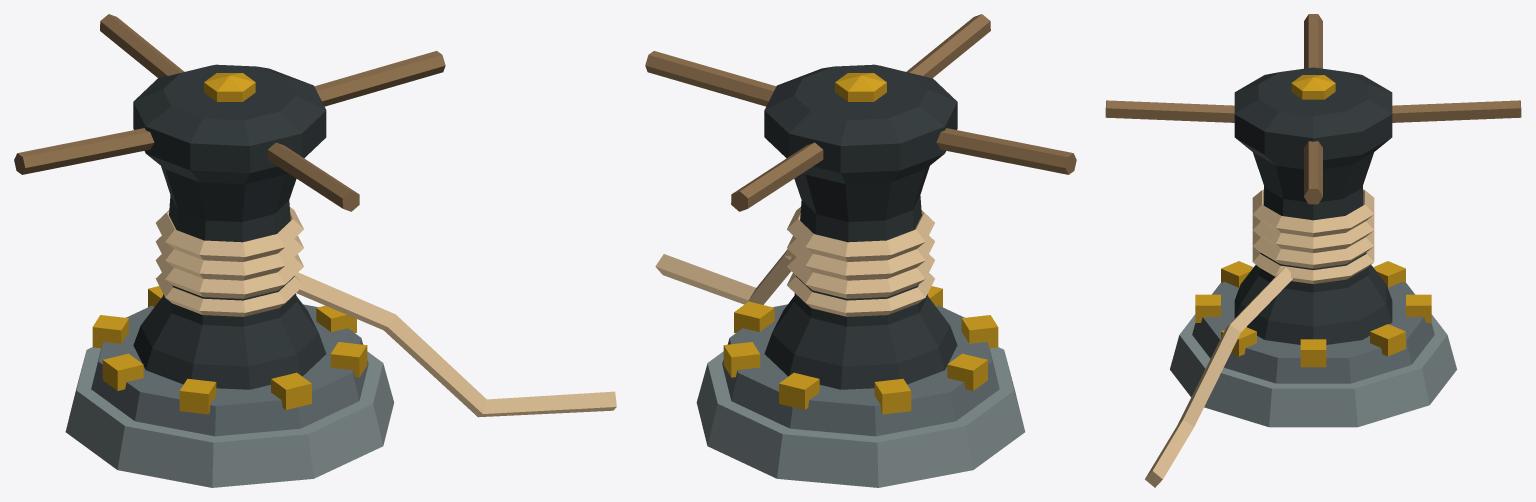
File: seilwinde.glb
3 views of the same model, side by side, from view 1: azimuth 30°, elevation 25°; view 2: azimuth 150°, elevation 25°; view 3: azimuth 270°, elevation 25° (orthographic). The views are drawn at different scales.
Visible parts, largest first — view 1: winde-m, seilwinde-m; view 2: winde-m, seilwinde-m; view 3: winde-m, seilwinde-m.
Part boxes in pixels (x1,y1,x2,y2): winde-m: [14, 14, 445, 389]; seilwinde-m: [65, 272, 616, 487]; winde-m: [645, 14, 1076, 389]; seilwinde-m: [655, 249, 1025, 487]; winde-m: [1105, 14, 1521, 344]; seilwinde-m: [1145, 261, 1456, 487].
Size of the model in its own units: 1.56 by 1.01 by 1.3.
